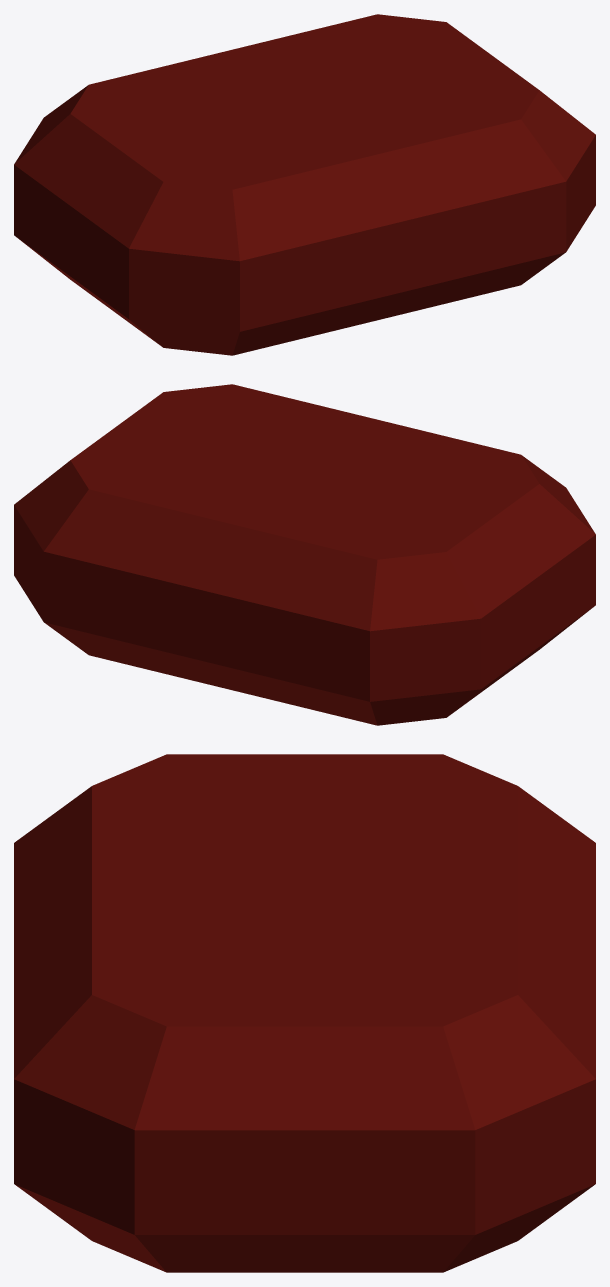
File: treasure_chest_gem_B.fbx
The picture shows the model from 3 angles, top to bottom: view 1: azimuth 30°, elevation 25°; view 2: azimuth 150°, elevation 25°; view 3: azimuth 270°, elevation 25°; orthographic projection. The views are drawn at different scales.
Visible parts, largest first — view 1: treasure_chest_gem_B; view 2: treasure_chest_gem_B; view 3: treasure_chest_gem_B.
Part boxes in pixels (bbox=[...]): treasure_chest_gem_B: bbox=[14, 14, 595, 355]; treasure_chest_gem_B: bbox=[14, 384, 595, 725]; treasure_chest_gem_B: bbox=[14, 754, 595, 1272].
Bounding box in the file's own units: 10.08 × 3.42 × 7.33.
